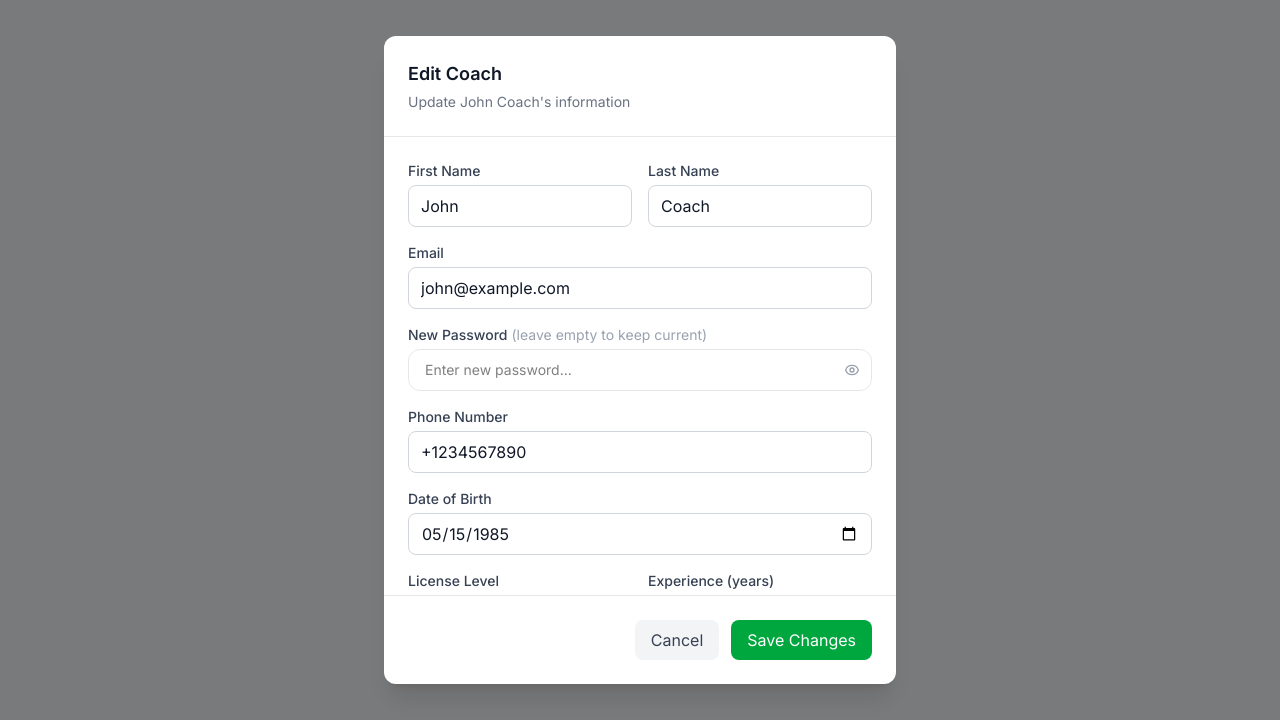
Test case: EditUserModal › Form interactions › should display generic error message on unknown error
Click the button "Save Changes".
click(802, 640)  # box x1=731 y1=620 x2=872 y2=660
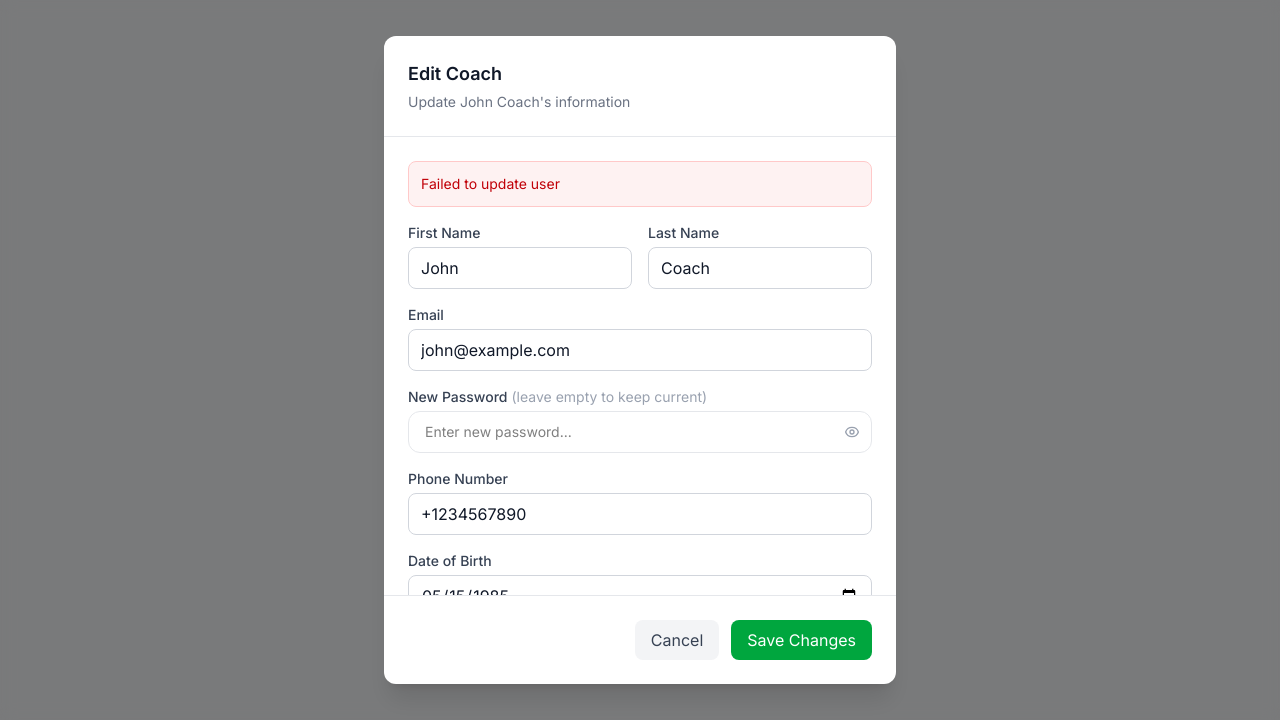
Check: the text "Failed to update user" is shown, box x1=408 y1=161 x2=872 y2=207
